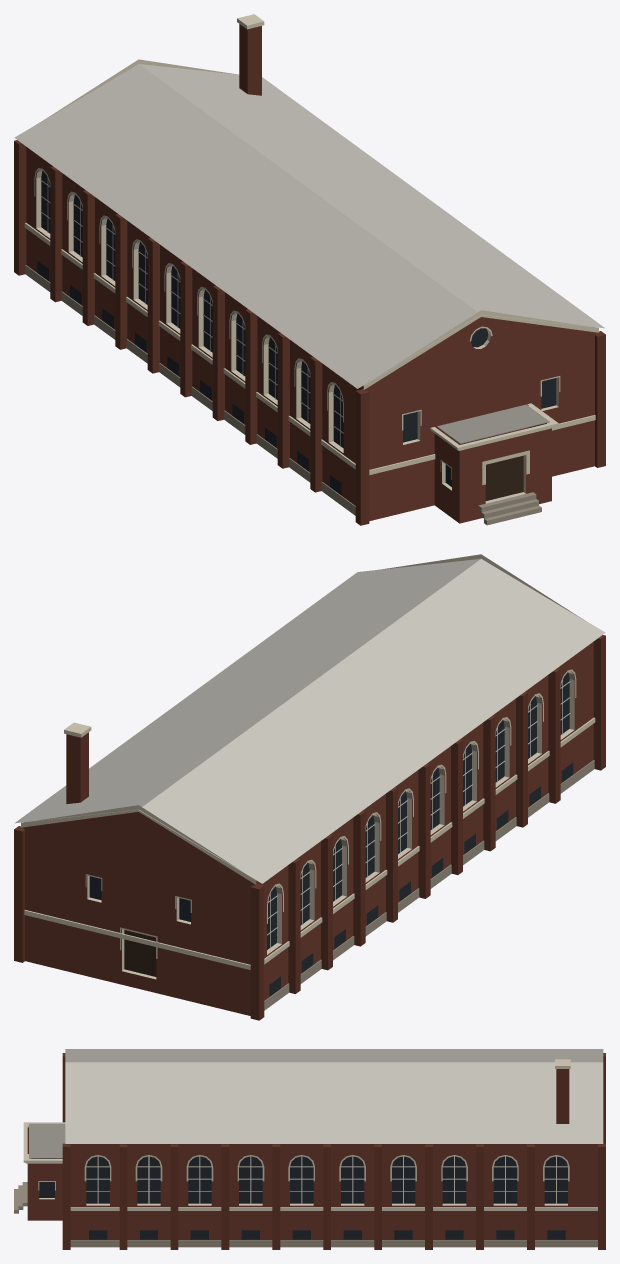
Rendered from mount-st-mary-gymnasium.glb.
The picture shows the model from 3 angles, top to bottom: view 1: azimuth 30°, elevation 25°; view 2: azimuth 150°, elevation 25°; view 3: azimuth 270°, elevation 25°; orthographic projection. The views are drawn at different scales.
Parts seen in each view (by area): view 1: mount_roofpale, mount_brick, mount_brick2, mount_trim, mount_glass, mount_base, mount_roofflat, mount_door, mount_sash; view 2: mount_roofpale, mount_brick, mount_brick2, mount_trim, mount_glass, mount_base, mount_door, mount_sash; view 3: mount_roofpale, mount_brick, mount_glass, mount_brick2, mount_trim, mount_base, mount_sash, mount_roofflat.
Boxes of the visible parts, x1,y1,x2,y2 form: mount_roofpale: (14,64,604,388); mount_brick: (26,147,596,523); mount_brick2: (14,24,605,525); mount_trim: (24,14,598,503); mount_glass: (37,171,556,495); mount_base: (25,265,541,525); mount_roofflat: (437,404,549,443); mount_door: (485,455,523,500); mount_sash: (40,178,343,446); mount_roofpale: (15,559,605,883); mount_brick: (23,642,593,1015); mount_brick2: (14,635,605,1020); mount_trim: (21,554,595,979); mount_glass: (89,672,573,996); mount_base: (264,760,594,1010); mount_door: (124,930,156,976); mount_sash: (267,680,570,948); mount_roofpale: (65,1049,603,1143); mount_brick: (27,1127,601,1239); mount_glass: (39,1156,567,1239); mount_brick2: (62,1053,605,1249); mount_trim: (23,1059,597,1210); mount_base: (14,1182,597,1247); mount_sash: (86,1156,567,1203); mount_roofflat: (29,1123,65,1158).
Size of the model in its own units: 17.2 by 14.65 by 45.34.
